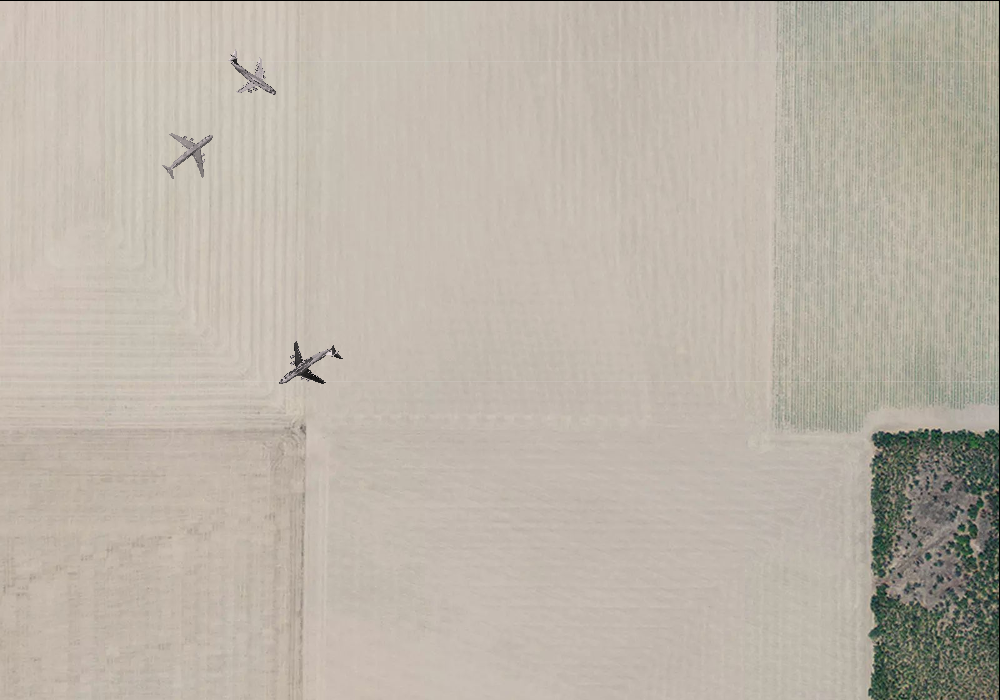plane: (263, 322, 354, 411), (148, 112, 230, 194), (212, 35, 292, 113)
